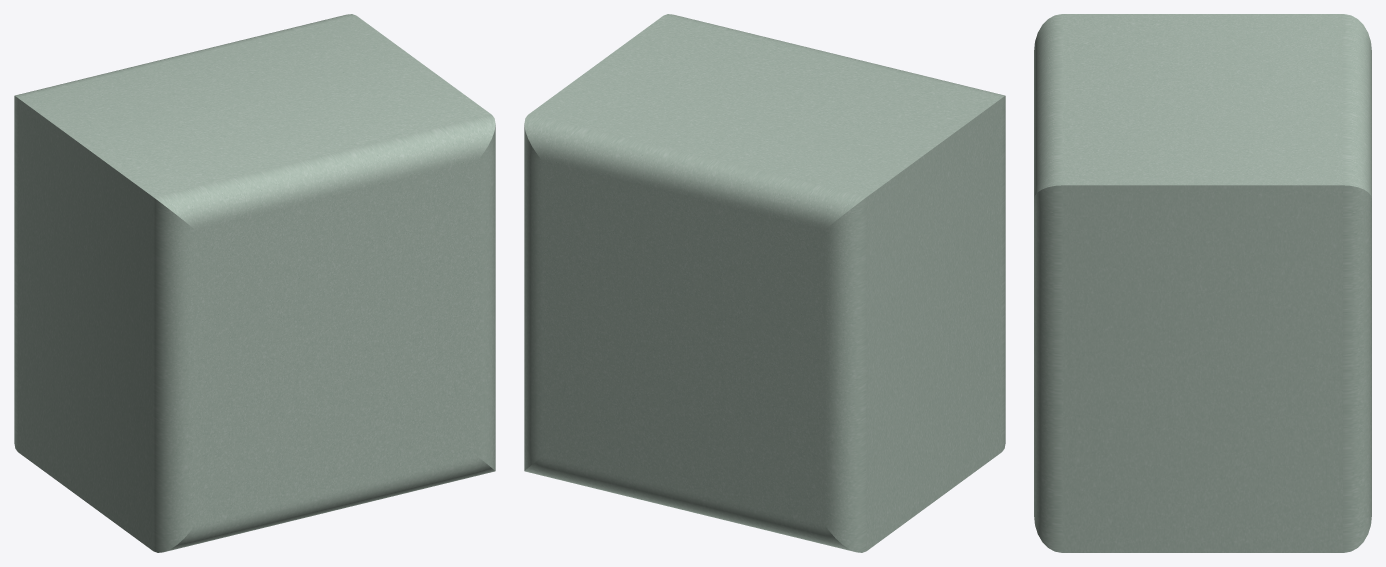
The model's file is glass_slice.glb.
3 renders of one model, left to right at view 1: azimuth 30°, elevation 25°; view 2: azimuth 150°, elevation 25°; view 3: azimuth 270°, elevation 25°, orthographic. The views are drawn at different scales.
Parts seen in each view (by area): view 1: Center, Left, Top, Top_Left, Bottom, Right, Bottom_Left, Top_Right; view 2: Center, Left, Top, Top_Left, Bottom, Right, Bottom_Left, Top_Right; view 3: Right, Top, Top_Right, Bottom_Right, Top_Left.
Boxes of the visible parts, left/top/right/bottom form: Center: left=195, top=161, right=477, bottom=524; Left: left=14, top=122, right=195, bottom=527; Top: left=40, top=20, right=477, bottom=229; Top_Left: left=14, top=89, right=195, bottom=232; Bottom: left=189, top=456, right=477, bottom=545; Right: left=477, top=150, right=495, bottom=455; Bottom_Left: left=14, top=417, right=195, bottom=552; Top_Right: left=322, top=14, right=495, bottom=160; Center: left=542, top=161, right=824, bottom=524; Left: left=824, top=122, right=1005, bottom=527; Top: left=542, top=20, right=979, bottom=229; Top_Left: left=824, top=89, right=1005, bottom=232; Bottom: left=542, top=456, right=830, bottom=545; Right: left=524, top=150, right=542, bottom=455; Bottom_Left: left=824, top=417, right=1005, bottom=552; Top_Right: left=524, top=14, right=697, bottom=160; Right: left=1034, top=205, right=1371, bottom=522; Top: left=1034, top=28, right=1371, bottom=195; Top_Right: left=1034, top=171, right=1371, bottom=215; Bottom_Right: left=1034, top=511, right=1371, bottom=552; Top_Left: left=1034, top=14, right=1371, bottom=52.
Size of the model in its own units: 120 by 120 by 100.
1 material, 1 textured.
